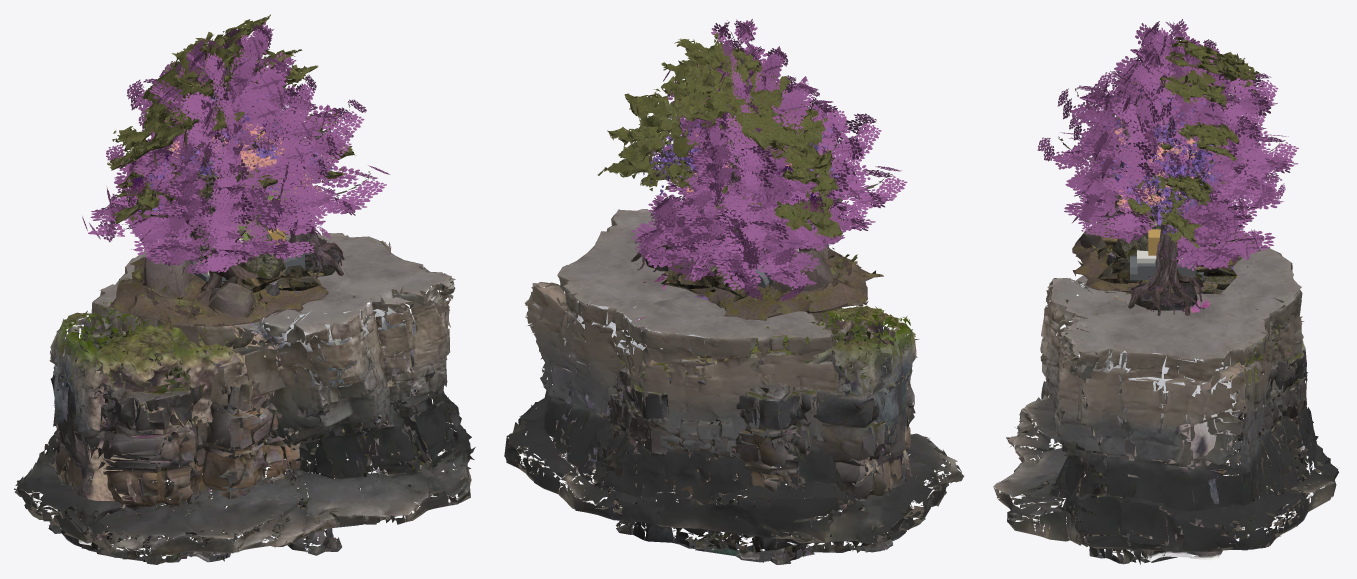
Rendered from scatter-kit.glb.
3 renders of one model, left to right at view 1: azimuth 30°, elevation 25°; view 2: azimuth 150°, elevation 25°; view 3: azimuth 270°, elevation 25°, orthographic. The views are drawn at different scales.
Visible parts, largest first — view 1: MF_Cliff_A_body, MF_Cliff_C_body, MF_Tree_Bare_A_body, MF_Cliff_B_body, MF_Tree_Purple_G_leaves, MF_Tree_Purple_F_leaves, MF_Tree_Purple_E_leaves, MF_Tree_Purple_D_leaves, MF_Tree_Purple_B_body, MF_Tree_Purple_C_body, MF_Rock_Shore_B_rock, MF_Tree_Purple_A_body (+1 smaller); view 2: MF_Cliff_A_body, MF_Cliff_C_body, MF_Tree_Bare_A_body, MF_Tree_Purple_F_leaves, MF_Tree_Purple_G_leaves, MF_Cliff_B_body, MF_Tree_Purple_D_leaves, MF_Tree_Purple_E_leaves, MF_Rock_Shore_B_rock, MF_Tree_Purple_C_body, MF_Tree_Purple_B_body; view 3: MF_Cliff_A_body, MF_Tree_Purple_G_leaves, MF_Tree_Purple_F_leaves, MF_Tree_Bare_A_body, MF_Cliff_C_body, MF_Tree_Purple_E_leaves, MF_Tree_Purple_D_leaves, MF_Cliff_B_body, MF_Tree_Purple_B_body, MF_Tree_Purple_C_body, MF_Rock_Shore_B_rock, MF_Tree_Purple_A_body (+2 smaller).
Boxes of the visible parts, left/top/right/bottom form: MF_Cliff_A_body: left=14, top=232, right=475, bottom=558; MF_Cliff_C_body: left=48, top=302, right=438, bottom=564; MF_Tree_Bare_A_body: left=107, top=14, right=355, bottom=331; MF_Cliff_B_body: left=49, top=302, right=427, bottom=545; MF_Tree_Purple_G_leaves: left=106, top=52, right=366, bottom=236; MF_Tree_Purple_F_leaves: left=82, top=136, right=389, bottom=273; MF_Tree_Purple_E_leaves: left=174, top=22, right=316, bottom=196; MF_Tree_Purple_D_leaves: left=121, top=91, right=353, bottom=239; MF_Tree_Purple_B_body: left=126, top=96, right=344, bottom=277; MF_Tree_Purple_C_body: left=138, top=84, right=340, bottom=298; MF_Rock_Shore_B_rock: left=234, top=265, right=319, bottom=311; MF_Tree_Purple_A_body: left=167, top=121, right=321, bottom=206; MF_Cliff_A_body: left=504, top=209, right=963, bottom=543; MF_Cliff_C_body: left=592, top=273, right=915, bottom=564; MF_Tree_Bare_A_body: left=597, top=32, right=883, bottom=320; MF_Tree_Purple_F_leaves: left=631, top=136, right=907, bottom=301; MF_Tree_Purple_G_leaves: left=648, top=44, right=881, bottom=265; MF_Cliff_B_body: left=553, top=301, right=919, bottom=529; MF_Tree_Purple_D_leaves: left=661, top=81, right=866, bottom=268; MF_Tree_Purple_E_leaves: left=685, top=19, right=824, bottom=212; MF_Rock_Shore_B_rock: left=660, top=258, right=776, bottom=307; MF_Tree_Purple_C_body: left=643, top=84, right=838, bottom=300; MF_Tree_Purple_B_body: left=631, top=109, right=825, bottom=271; MF_Cliff_A_body: left=993, top=248, right=1338, bottom=551; MF_Tree_Purple_G_leaves: left=1057, top=36, right=1278, bottom=250; MF_Tree_Purple_F_leaves: left=1037, top=130, right=1298, bottom=270; MF_Tree_Bare_A_body: left=1072, top=36, right=1260, bottom=296; MF_Cliff_C_body: left=1023, top=286, right=1309, bottom=564; MF_Tree_Purple_E_leaves: left=1101, top=19, right=1230, bottom=216; MF_Tree_Purple_D_leaves: left=1069, top=91, right=1266, bottom=249; MF_Cliff_B_body: left=1093, top=294, right=1239, bottom=561; MF_Tree_Purple_B_body: left=1128, top=98, right=1204, bottom=315; MF_Tree_Purple_C_body: left=1100, top=88, right=1233, bottom=293; MF_Rock_Shore_B_rock: left=1097, top=235, right=1241, bottom=294; MF_Tree_Purple_A_body: left=1114, top=114, right=1210, bottom=213.
Size of the model in its own units: 14.59 by 16.89 by 11.41.
Materials: 28 (18 with a texture image).
